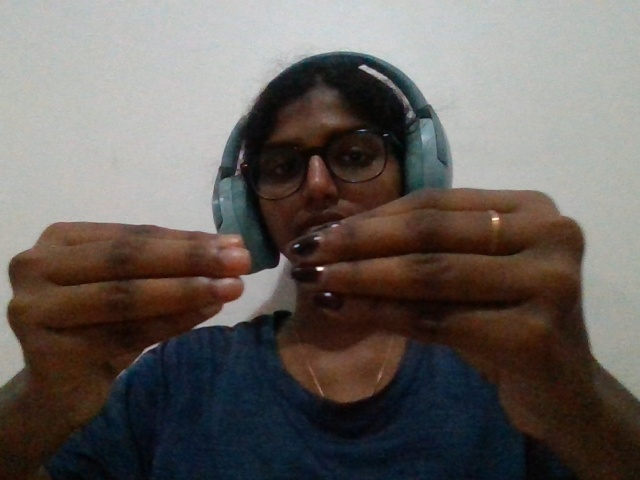More: (1, 128, 611, 480)
